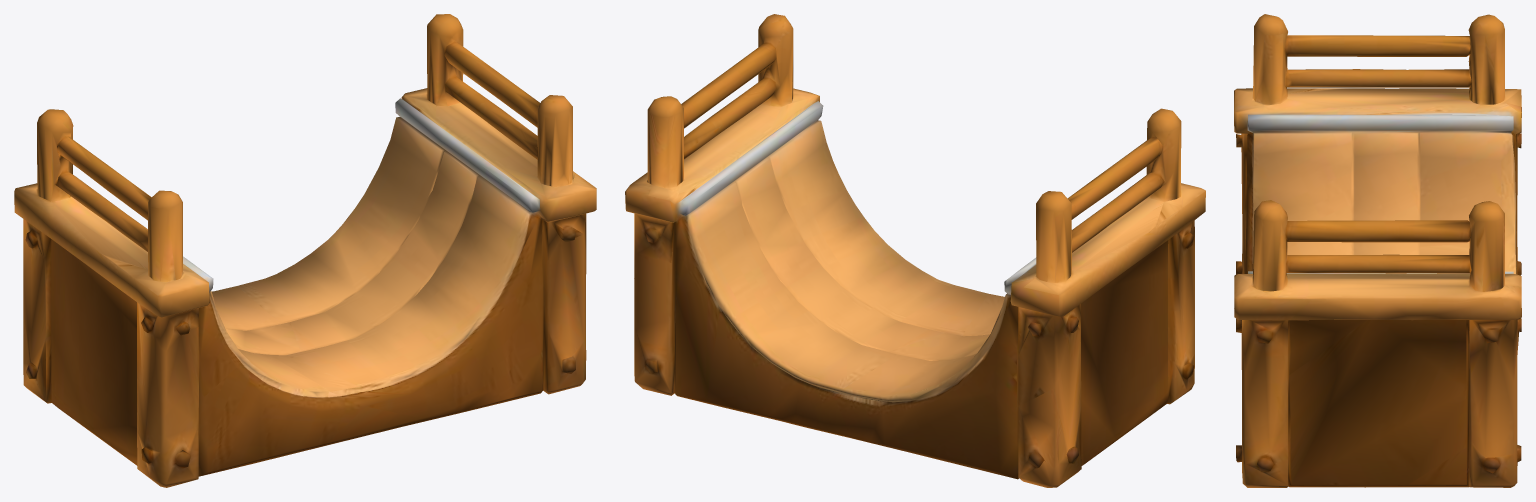
Rendered from skateramp.glb.
3 views of the same model, side by side, from view 1: azimuth 30°, elevation 25°; view 2: azimuth 150°, elevation 25°; view 3: azimuth 270°, elevation 25° (orthographic). The views are drawn at different scales.
Parts seen in each view (by area): view 1: model; view 2: model; view 3: model.
Part boxes in pixels (x1=…): model: x1=14, y1=14, x2=596, y2=487; model: x1=625, y1=14, x2=1205, y2=487; model: x1=1234, y1=14, x2=1521, y2=487.
Size of the model in its own units: 1.9 by 1.18 by 1.1.
1 material, 1 textured.
